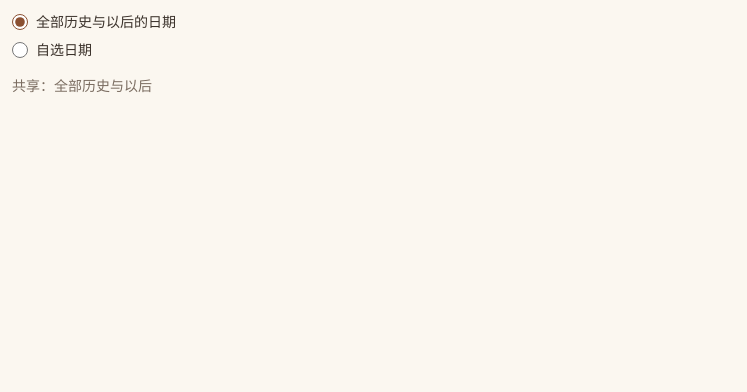
Scenario: RangeEditor › [adr:spaces-and-invitations#6] picks single days, ranges, open ends and exclusions on the calendar
Later steps or results of the test are not shown.
Click the radio button labelled "自选日期" at point(20, 50), box [12,42,28,58]
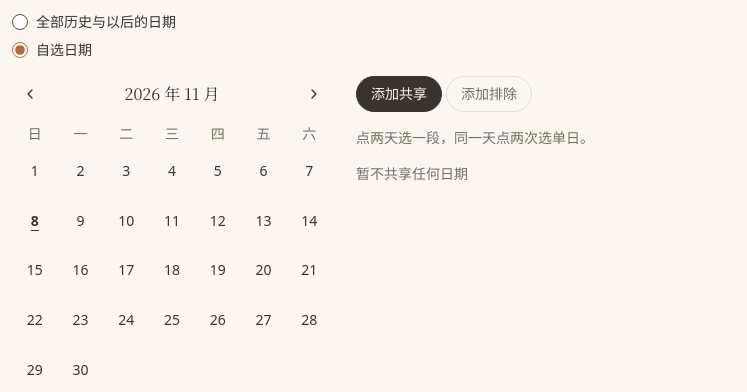
Click the button named "上个月" at point(30, 94), box [12,76,48,112]
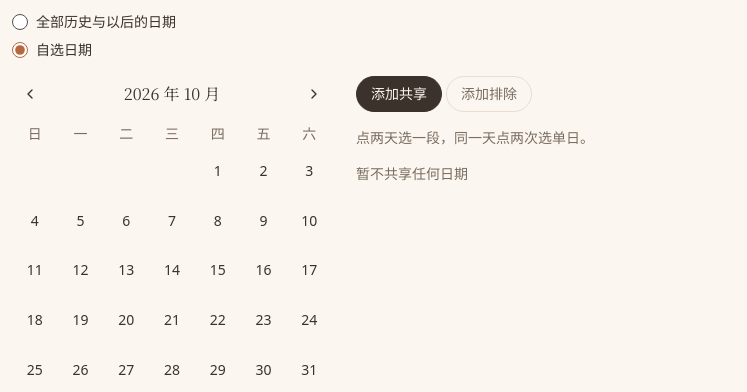
Now the text "2026 年 10 月" is shown, box [124,82,220,106]
Click the button "5" at point(81, 221), box [58,198,103,243]
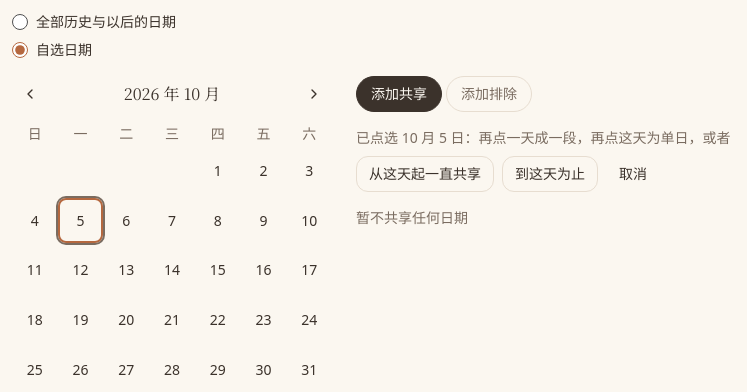
Now the text "已点选 10 月 5 日：再点一天成一段，再点这天为单日，或者" is shown, box [356,128,731,148]
